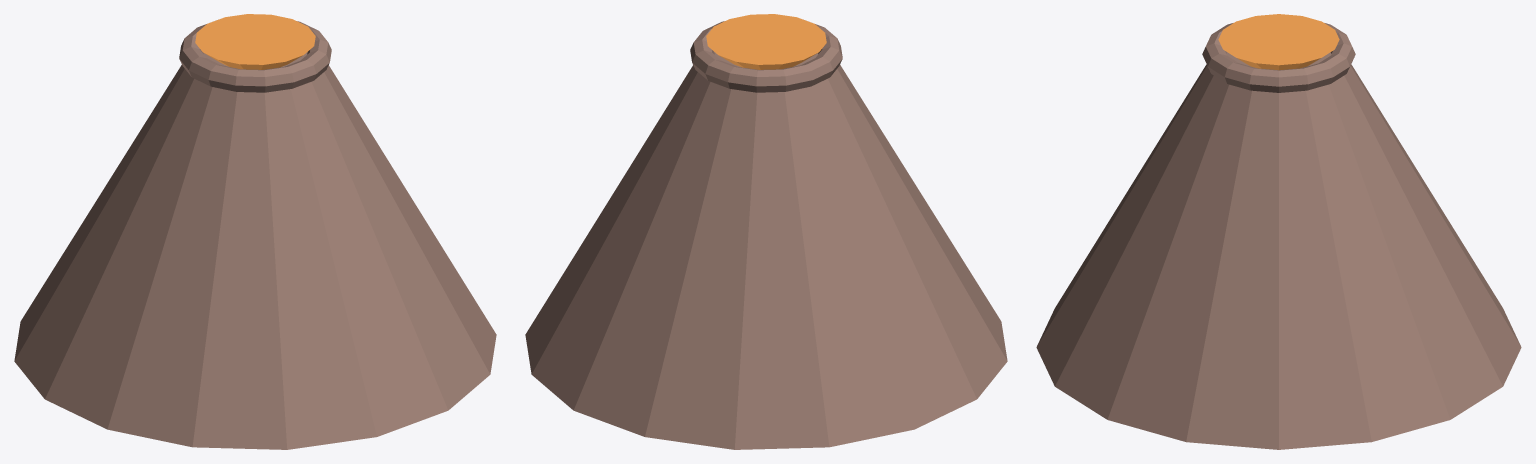
The model's file is volcano_mesh.glb.
The picture shows the model from 3 angles, left to right: view 1: azimuth 30°, elevation 25°; view 2: azimuth 150°, elevation 25°; view 3: azimuth 270°, elevation 25°; orthographic projection.
Parts seen in each view (by area): view 1: VolcanoCone, CraterInner, CraterLip; view 2: VolcanoCone, CraterInner, CraterLip; view 3: VolcanoCone, CraterInner, CraterLip.
Part boxes in pixels (bbox=[...]): VolcanoCone: bbox=[14, 52, 496, 449]; CraterInner: bbox=[195, 14, 315, 69]; CraterLip: bbox=[179, 21, 331, 92]; VolcanoCone: bbox=[525, 52, 1007, 449]; CraterInner: bbox=[706, 14, 826, 69]; CraterLip: bbox=[690, 21, 842, 92]; VolcanoCone: bbox=[1036, 52, 1521, 449]; CraterInner: bbox=[1218, 14, 1339, 70]; CraterLip: bbox=[1202, 23, 1355, 92].
Size of the model in its own units: 6 by 4.2 by 6.
